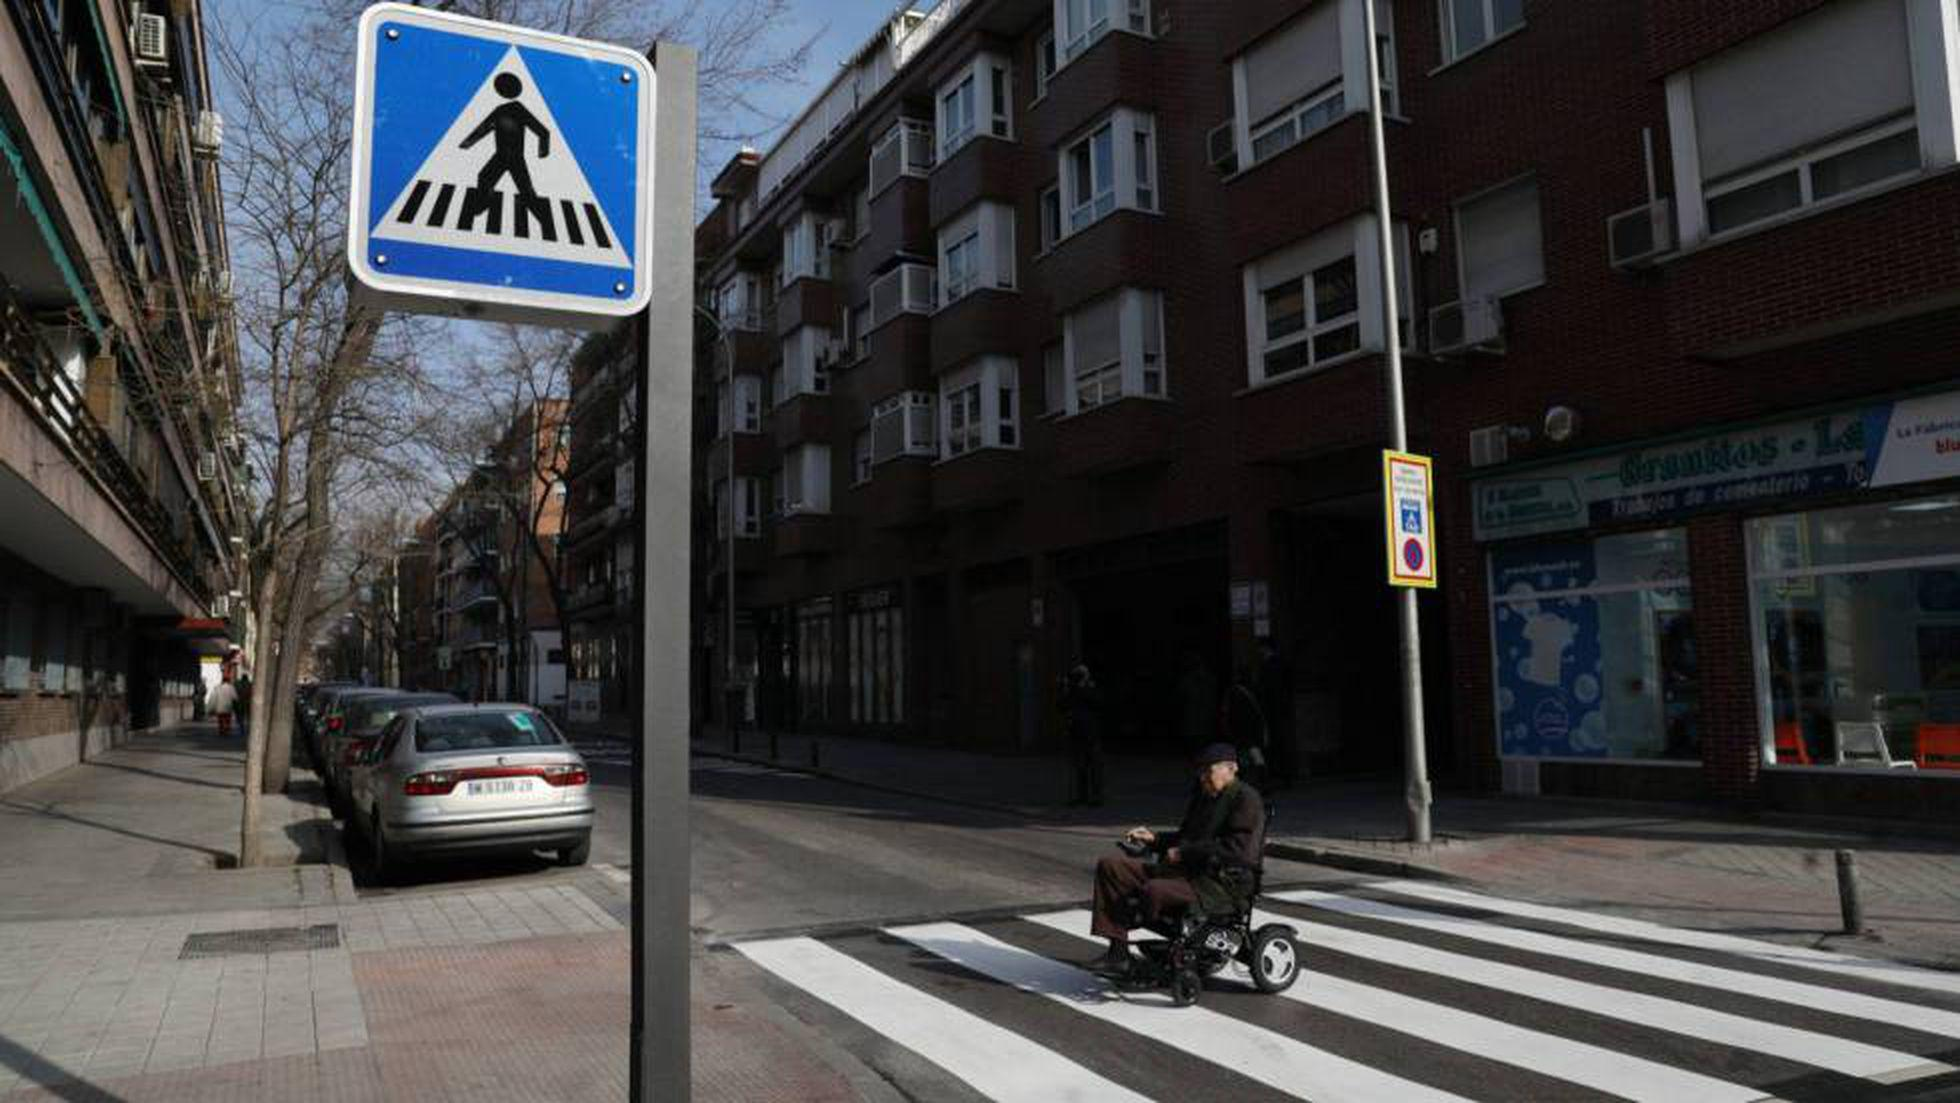wheelchair: (1069, 742, 1302, 1007)
